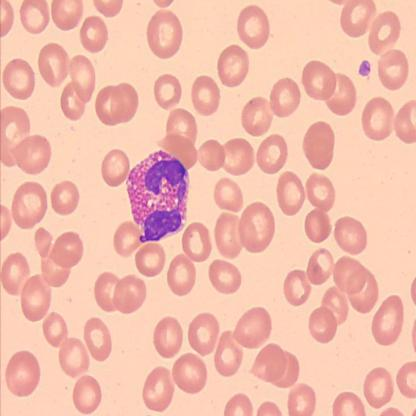Eosinophil: (124, 151, 190, 243)
